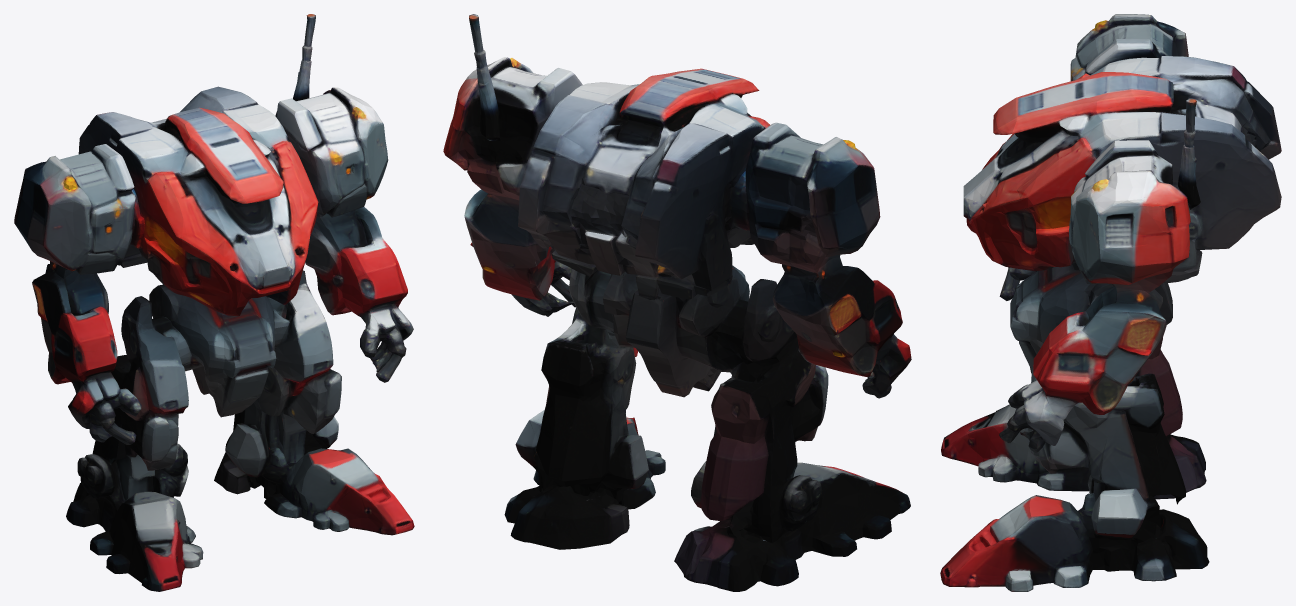
3 renders of one model, left to right at view 1: azimuth 30°, elevation 25°; view 2: azimuth 150°, elevation 25°; view 3: azimuth 270°, elevation 25°, orthographic. The views are drawn at different scales.
Visible parts, largest first — view 1: world; view 2: world; view 3: world.
Part boxes in pixels (left/top/right/bottom): world: left=14, top=14, right=414, bottom=591; world: left=443, top=14, right=911, bottom=591; world: left=940, top=14, right=1281, bottom=591.
Size of the model in its own units: 0.8472 by 1 by 0.634.
Materials: 1 (1 with a texture image).
